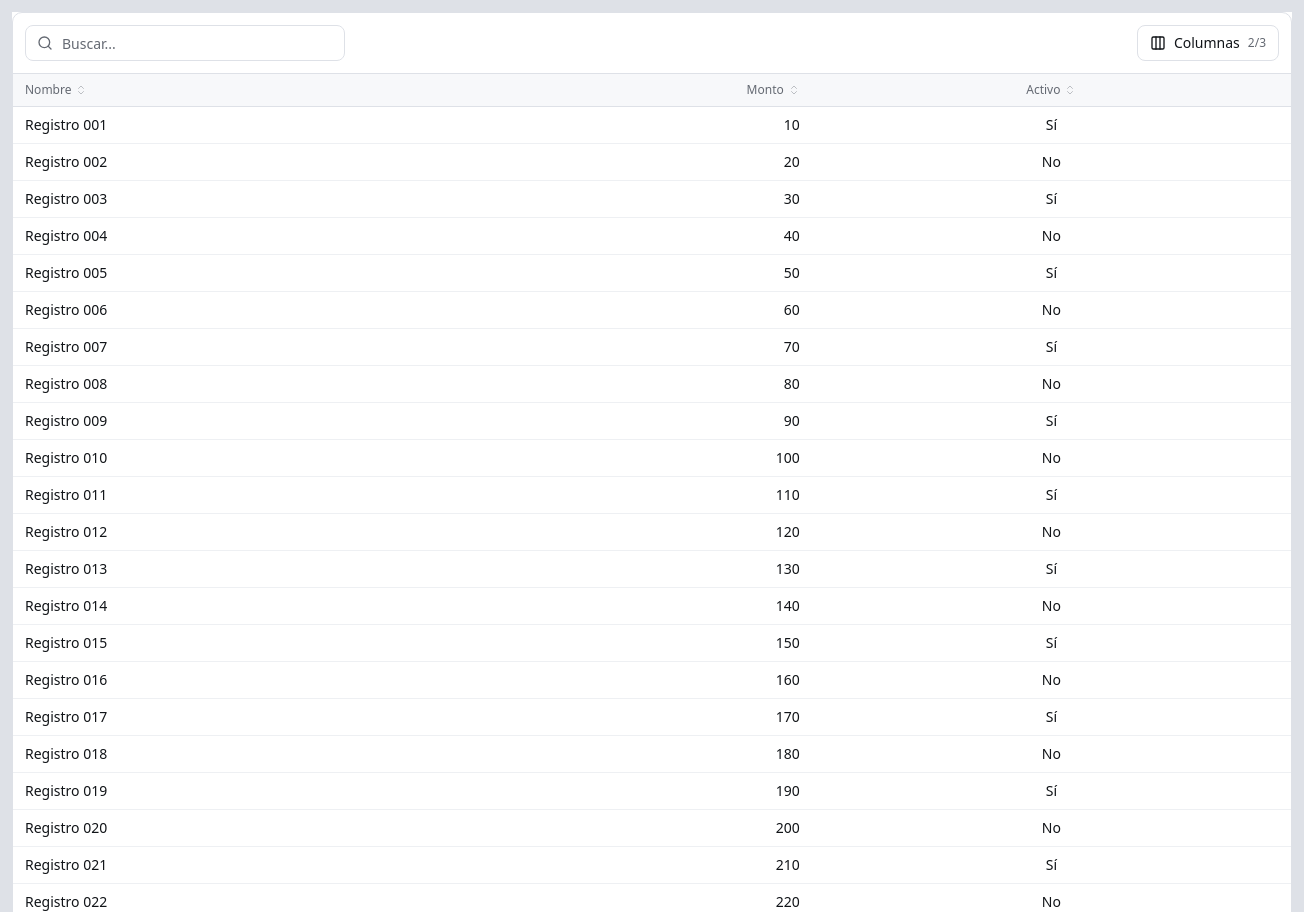
Scenario: DataTable › restaurar configuración › la restauración vive dentro del selector de columnas
The image size is (1304, 912).
expect the button "Restaurar" is not shown: met
Step 1. Click the button "Columnas 2/3" → (1208, 43), box [1137,25,1279,61]
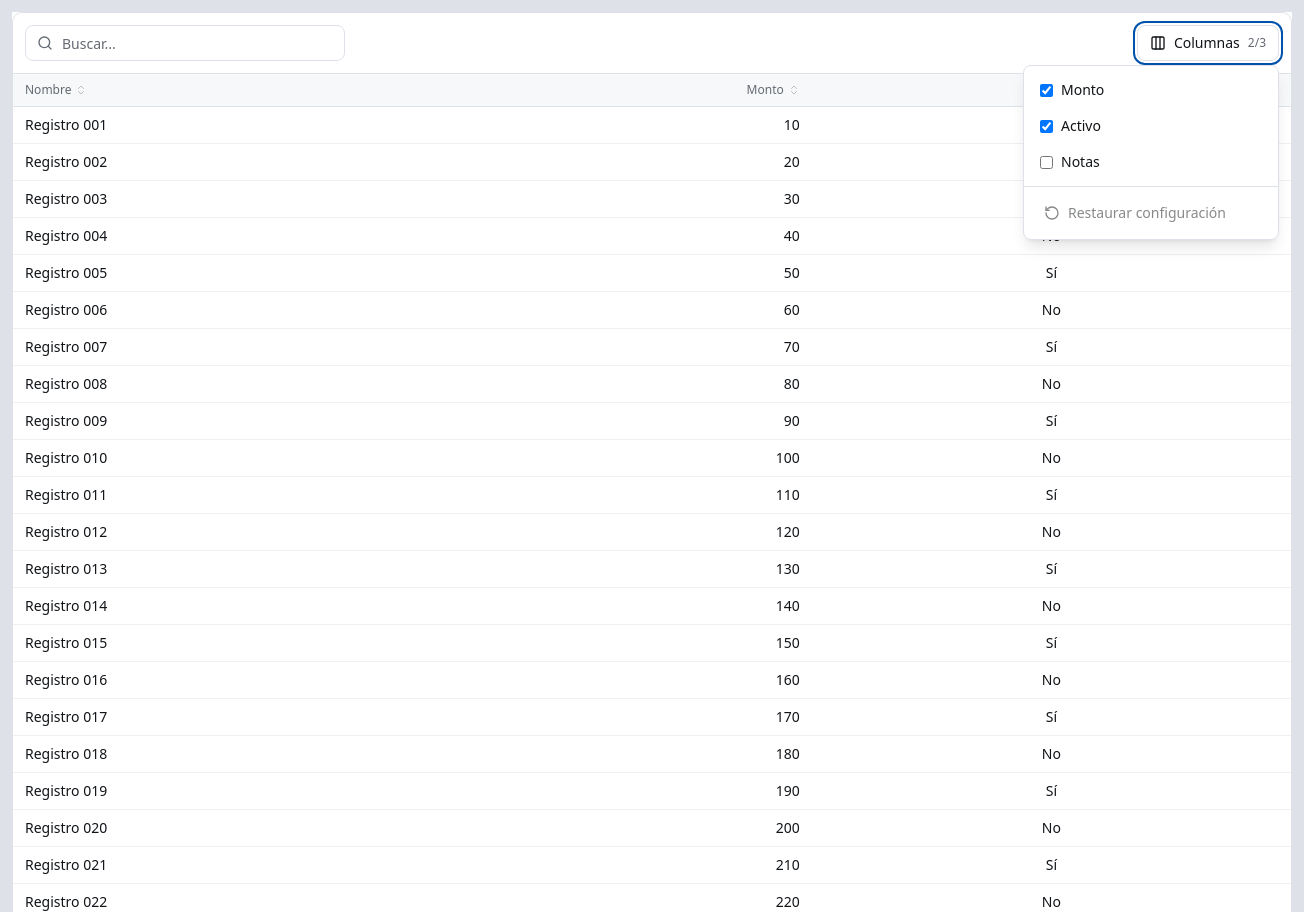
expect the button "Restaurar configuración" is shown: met, box [1032,195,1270,231]
